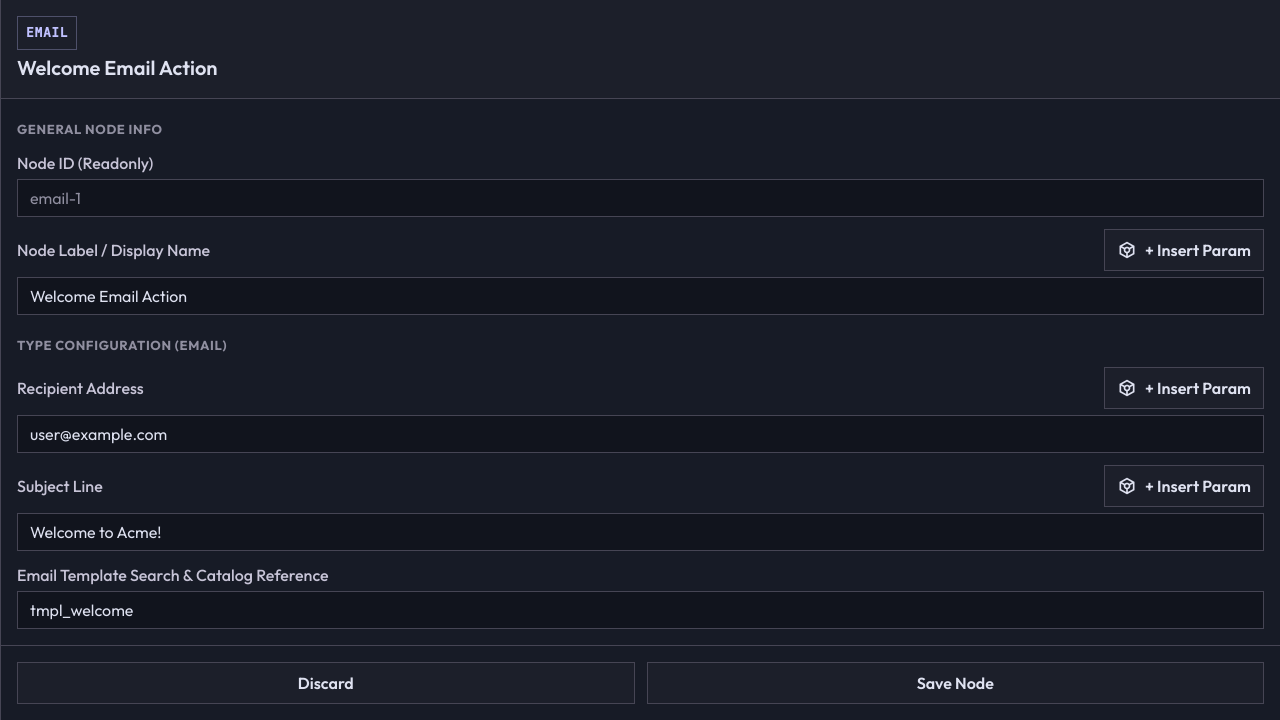
it: NodeInspector Component › isolated draft buffer: Cancel restores original graph node state
Note: Modify value in isolated draft buffer
Replace the text in the field with test id "inspector-input-recipient" with "changed@example.com" at (640, 434), box [17,415,1264,453]
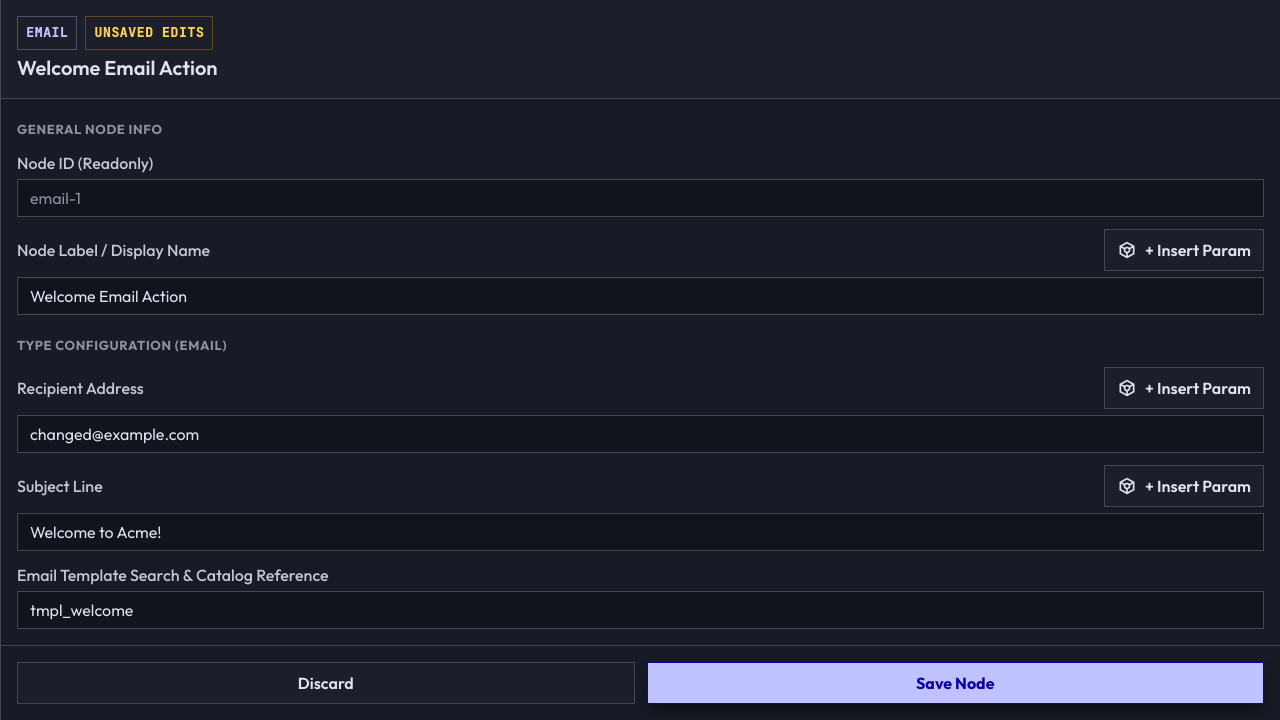
Expected: the element with test id "unsaved-inspector-badge" is shown, [85,16,213,50]
Note: Click Cancel to discard isolated edits
Click the button with test id "inspector-cancel-btn" at (326, 683), box [17,662,634,704]
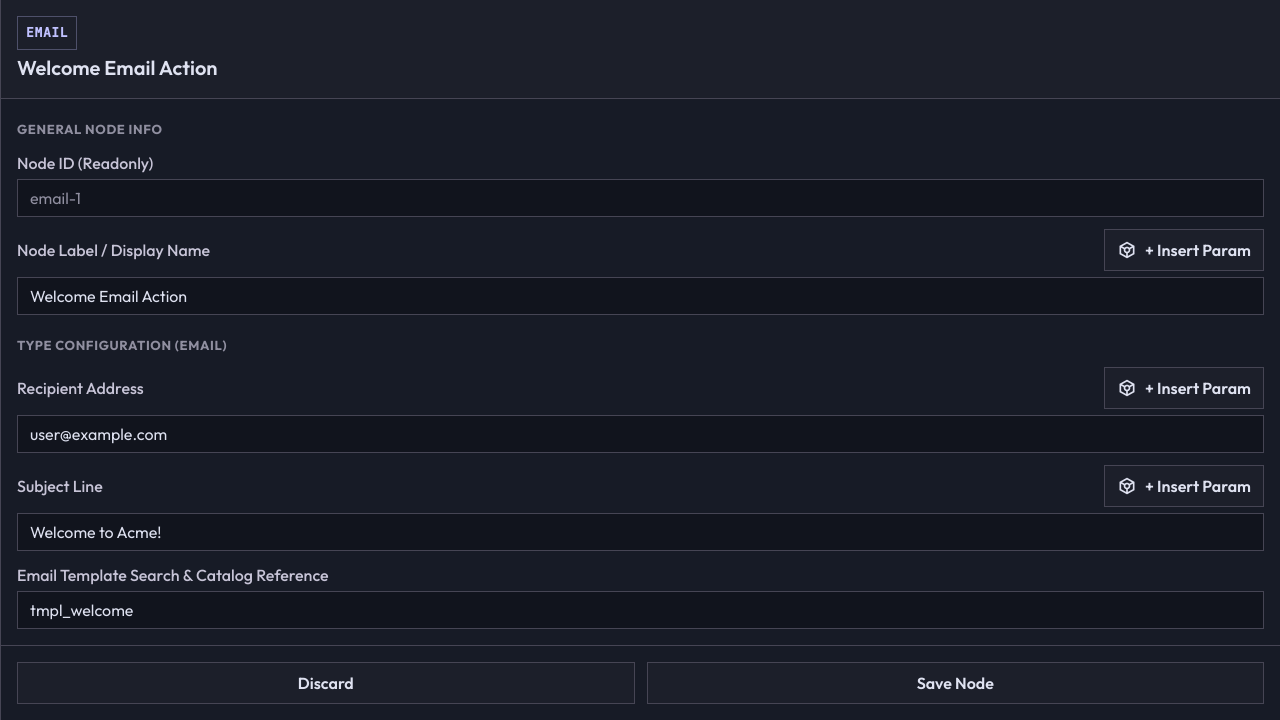
Expected: the field with test id "inspector-input-recipient" holds "user@example.com", [17,415,1264,453]
Expected: the element with test id "unsaved-inspector-badge" is gone
